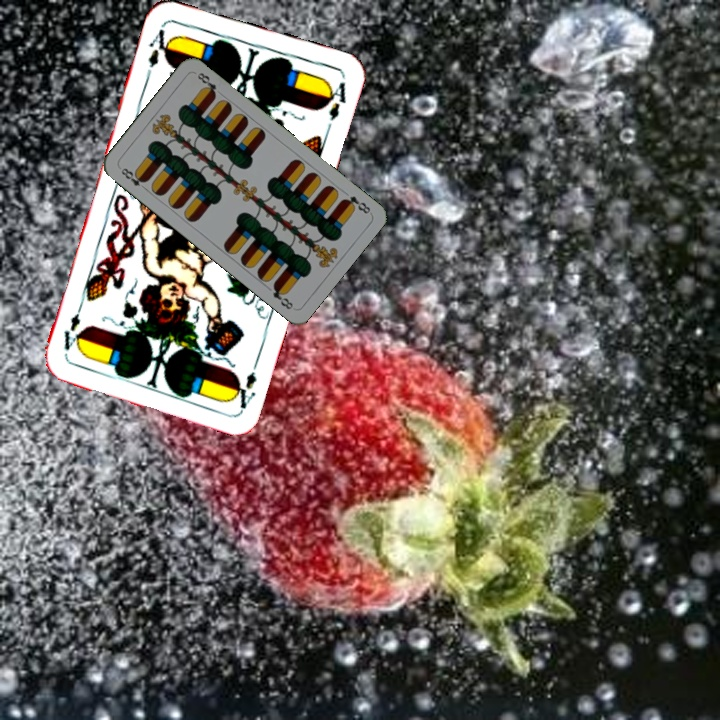E8: (117, 164, 150, 193), (338, 192, 373, 217)
EA: (228, 354, 262, 412), (142, 20, 175, 79)
